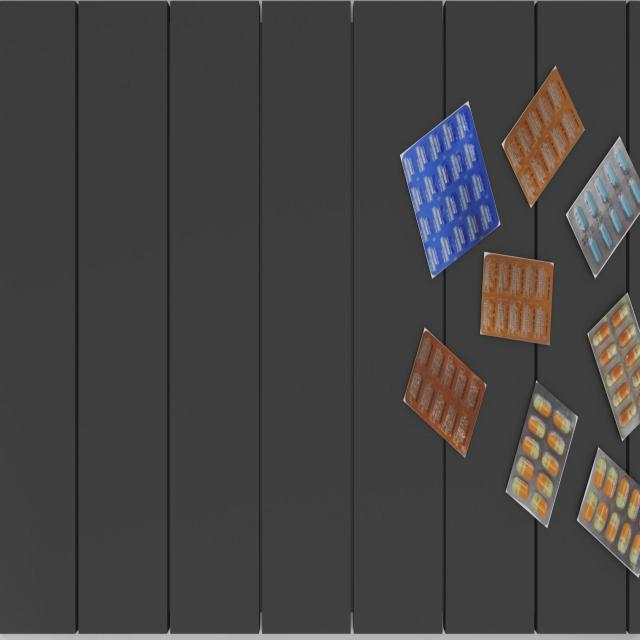blister: (397, 96, 504, 280), (500, 58, 587, 216), (501, 365, 579, 537), (399, 323, 489, 458), (562, 130, 640, 282), (574, 435, 639, 588), (582, 287, 640, 443), (476, 246, 560, 353)
